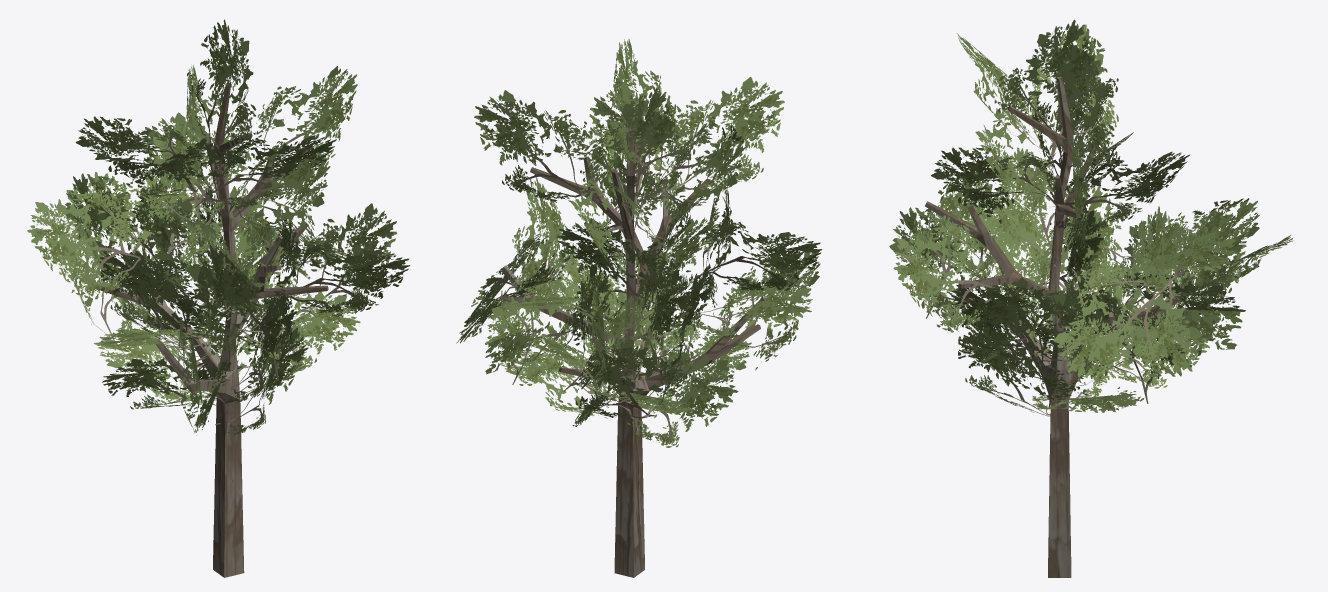
The model's file is arbol_detalle3 .fbx.
The picture shows the model from 3 angles, left to right: view 1: azimuth 30°, elevation 25°; view 2: azimuth 150°, elevation 25°; view 3: azimuth 270°, elevation 25°; orthographic projection. The views are drawn at different scales.
Parts seen in each view (by area): view 1: Plane.002; view 2: Plane.002; view 3: Plane.002.
Part boxes in pixels (box(x1,y1,x2,y2)): Plane.002: box(27, 19, 410, 577); Plane.002: box(456, 39, 822, 577); Plane.002: box(889, 19, 1293, 577).
Bounding box in the file's own units: 1194 × 1816 × 1298.
2 materials, 2 textured.
